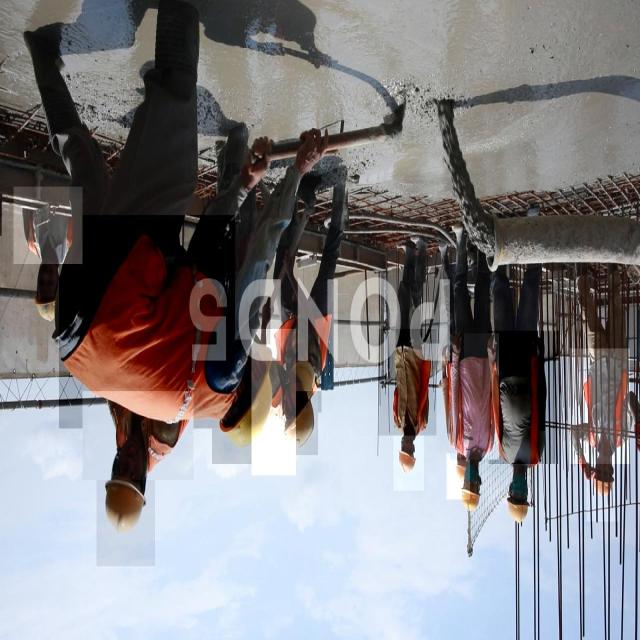Helmet: (97, 418, 155, 566), (212, 340, 279, 464), (29, 242, 67, 345), (502, 462, 544, 542), (276, 376, 318, 455), (282, 332, 322, 412), (460, 435, 491, 527), (587, 433, 619, 522), (394, 429, 424, 491), (446, 444, 470, 500)
Safety Vest: (59, 215, 235, 429), (82, 391, 194, 480), (488, 331, 558, 464), (570, 348, 630, 464), (271, 282, 334, 391), (252, 329, 296, 475), (378, 329, 436, 435), (450, 334, 499, 459), (13, 187, 82, 264), (438, 334, 464, 454)
